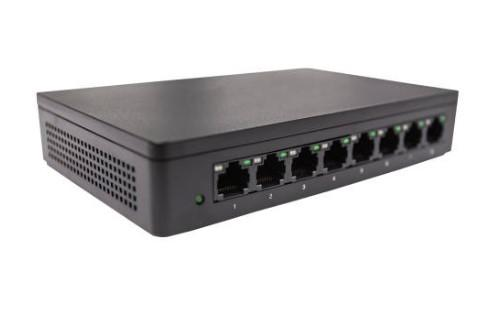NetworkSwitch: (36, 68, 460, 239)
